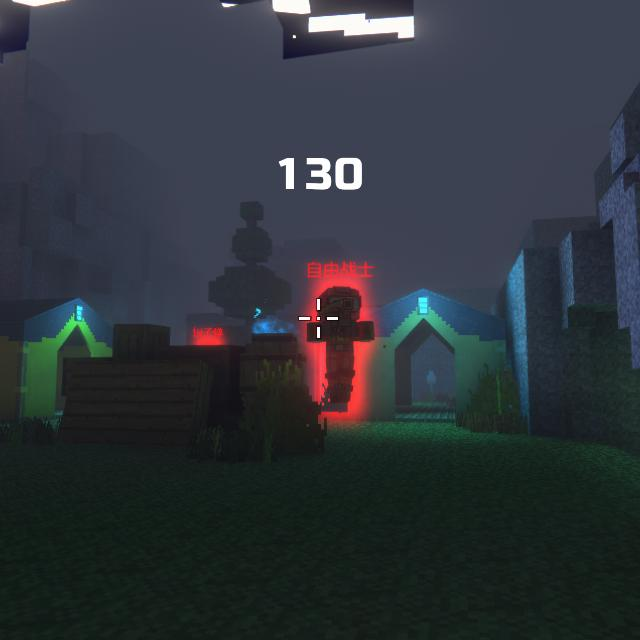Enemy: (306, 286, 375, 403)
